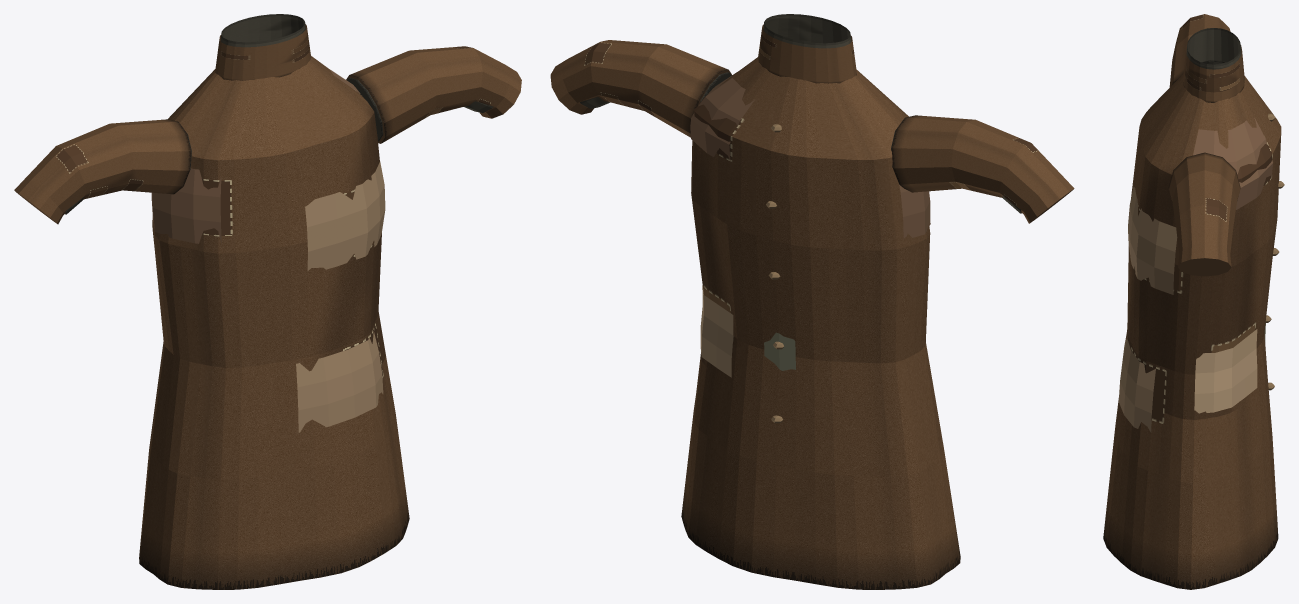
The model's file is ao-ba-ba-nau.glb.
3 renders of one model, left to right at view 1: azimuth 30°, elevation 25°; view 2: azimuth 150°, elevation 25°; view 3: azimuth 270°, elevation 25°, orthographic. The views are drawn at different scales.
Visible parts, largest first — view 1: AoBaBa, Sleeve_L, Sleeve_R, Patch_4, Patch_1, Patch_2, Collar, AoDaiThe_Collar, AoDaiThe_Sleeve_R; view 2: AoBaBa, Sleeve_L, Sleeve_R, Collar, AoDaiThe_Collar, Patch_0, Patch_3, Patch_2, AoDaiThe_Flap; view 3: AoBaBa, Sleeve_R, Patch_3, Patch_1, Patch_0, Patch_4, Collar, AoDaiThe_Collar, Sleeve_L.
Part boxes in pixels (bbox=[...]): AoBaBa: bbox=[139, 56, 409, 589]; Sleeve_L: bbox=[14, 119, 190, 224]; Sleeve_R: bbox=[346, 46, 521, 143]; Patch_4: bbox=[296, 331, 383, 432]; Patch_1: bbox=[305, 161, 385, 270]; Patch_2: bbox=[151, 168, 221, 244]; Collar: bbox=[215, 24, 311, 80]; AoDaiThe_Collar: bbox=[220, 14, 305, 47]; AoDaiThe_Sleeve_R: bbox=[347, 77, 493, 141]; AoBaBa: bbox=[681, 57, 960, 589]; Sleeve_L: bbox=[891, 115, 1074, 223]; Sleeve_R: bbox=[550, 40, 731, 137]; Collar: bbox=[758, 24, 856, 83]; AoDaiThe_Collar: bbox=[763, 14, 851, 48]; Patch_0: bbox=[690, 72, 754, 160]; Patch_3: bbox=[700, 285, 733, 377]; Patch_2: bbox=[899, 185, 930, 238]; AoDaiThe_Flap: bbox=[764, 332, 795, 370]; AoBaBa: bbox=[1103, 74, 1281, 589]; Sleeve_R: bbox=[1168, 152, 1240, 276]; Patch_3: bbox=[1194, 329, 1257, 413]; Patch_1: bbox=[1128, 187, 1177, 294]; Patch_0: bbox=[1193, 118, 1272, 209]; Patch_4: bbox=[1118, 334, 1155, 432]; Collar: bbox=[1183, 45, 1244, 102]; AoDaiThe_Collar: bbox=[1186, 28, 1241, 69]; Sleeve_L: bbox=[1169, 14, 1230, 87].
Size of the model in its own units: 1.18 by 1.15 by 0.3918.
Materials: 7 (2 with a texture image).
